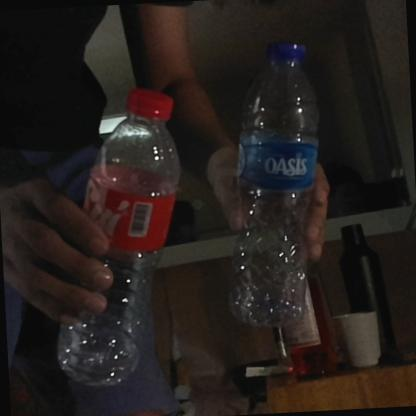plastic_bottles: (46, 85, 192, 387), (219, 40, 328, 324)
